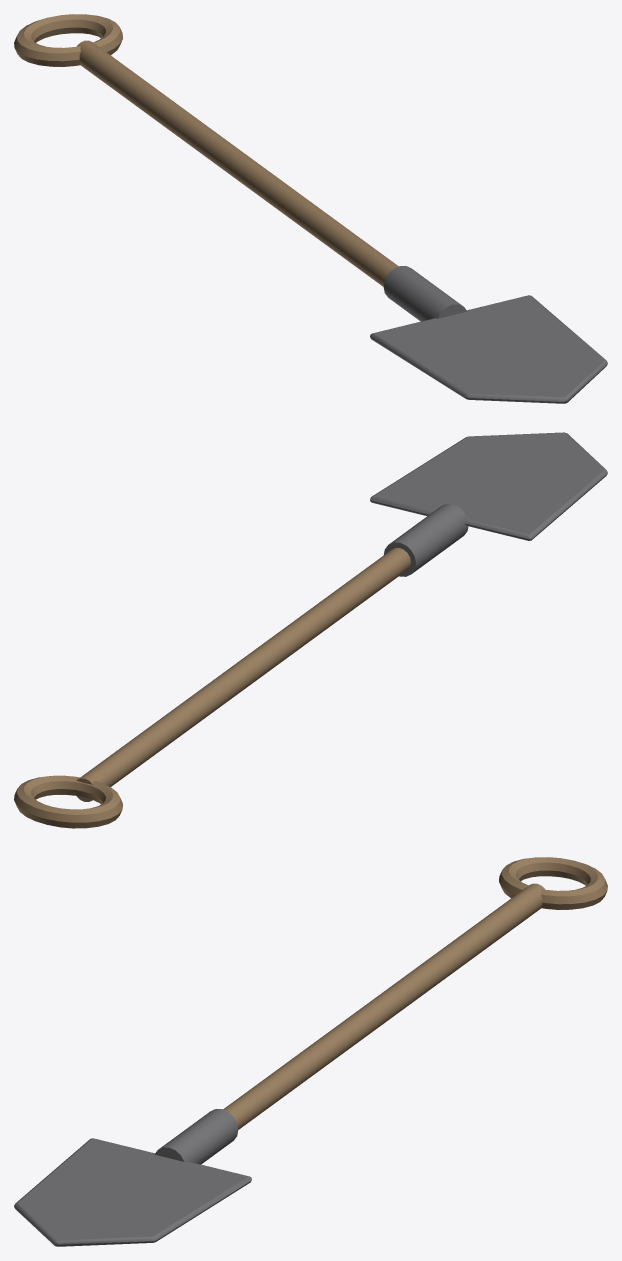
The model's file is shovel.glb.
3 views of the same model, one above another, from view 1: azimuth 30°, elevation 25°; view 2: azimuth 150°, elevation 25°; view 3: azimuth 330°, elevation 25° (orthographic).
Visible parts, largest first — view 1: Blade, Handle, Grip, Socket; view 2: Blade, Handle, Grip, Socket; view 3: Blade, Handle, Grip, Socket.
Boxes of the visible parts, bbox=[...] form: Blade: bbox=[370, 295, 607, 403]; Handle: bbox=[76, 40, 398, 286]; Grip: bbox=[14, 14, 122, 66]; Socket: bbox=[383, 266, 467, 321]; Blade: bbox=[370, 432, 607, 540]; Handle: bbox=[76, 547, 410, 801]; Grip: bbox=[14, 775, 122, 828]; Socket: bbox=[383, 503, 468, 576]; Blade: bbox=[14, 1138, 251, 1246]; Handle: bbox=[223, 883, 545, 1129]; Grip: bbox=[499, 857, 607, 909]; Socket: bbox=[154, 1109, 238, 1164].
Size of the model in its own units: 0.3192 by 0.064 by 1.78.
